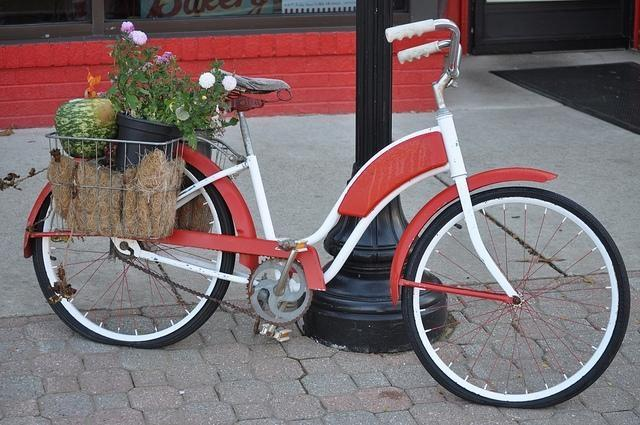bicycle: (20, 16, 629, 408)
